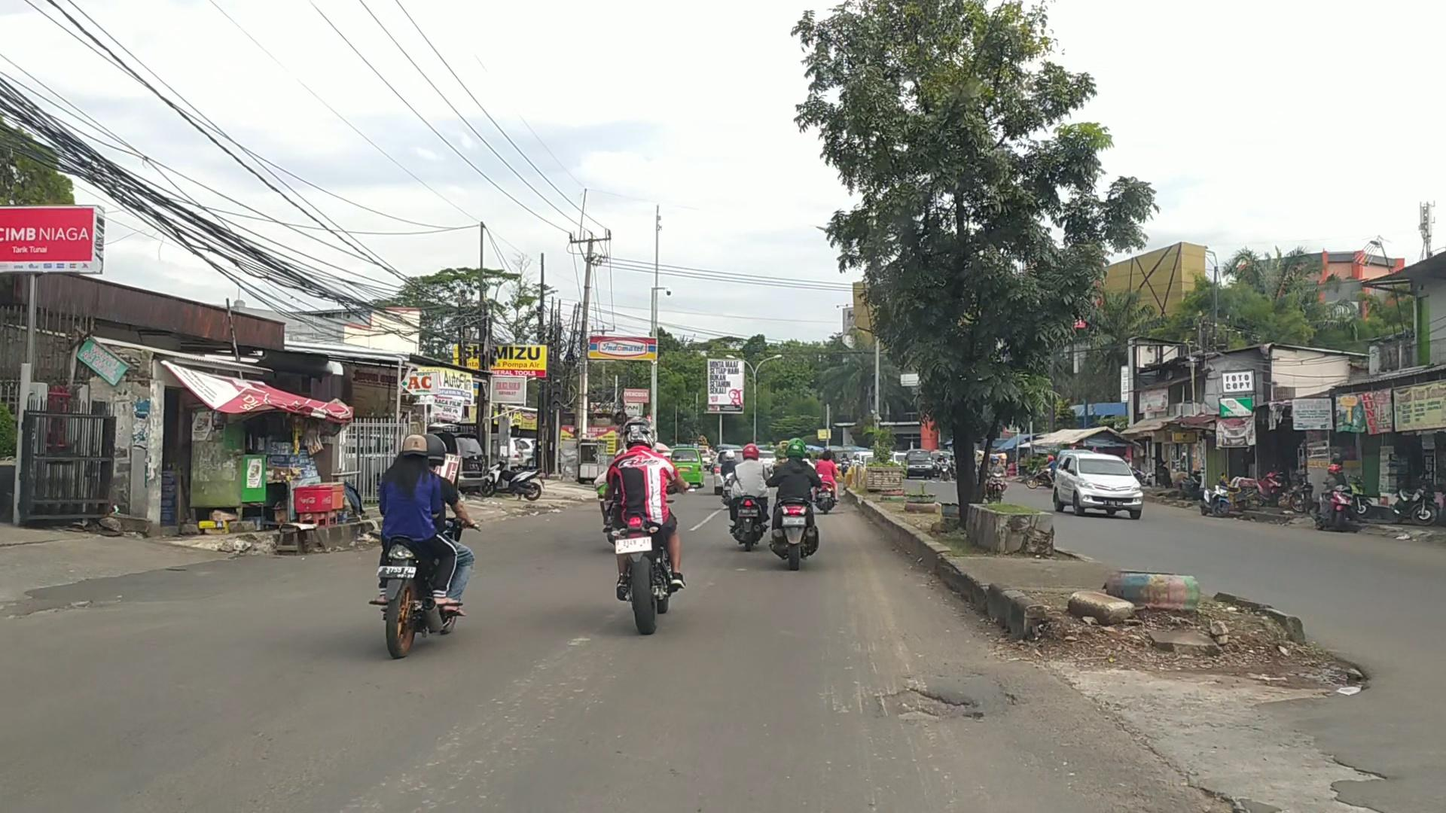pothole: (870, 683, 986, 725)
